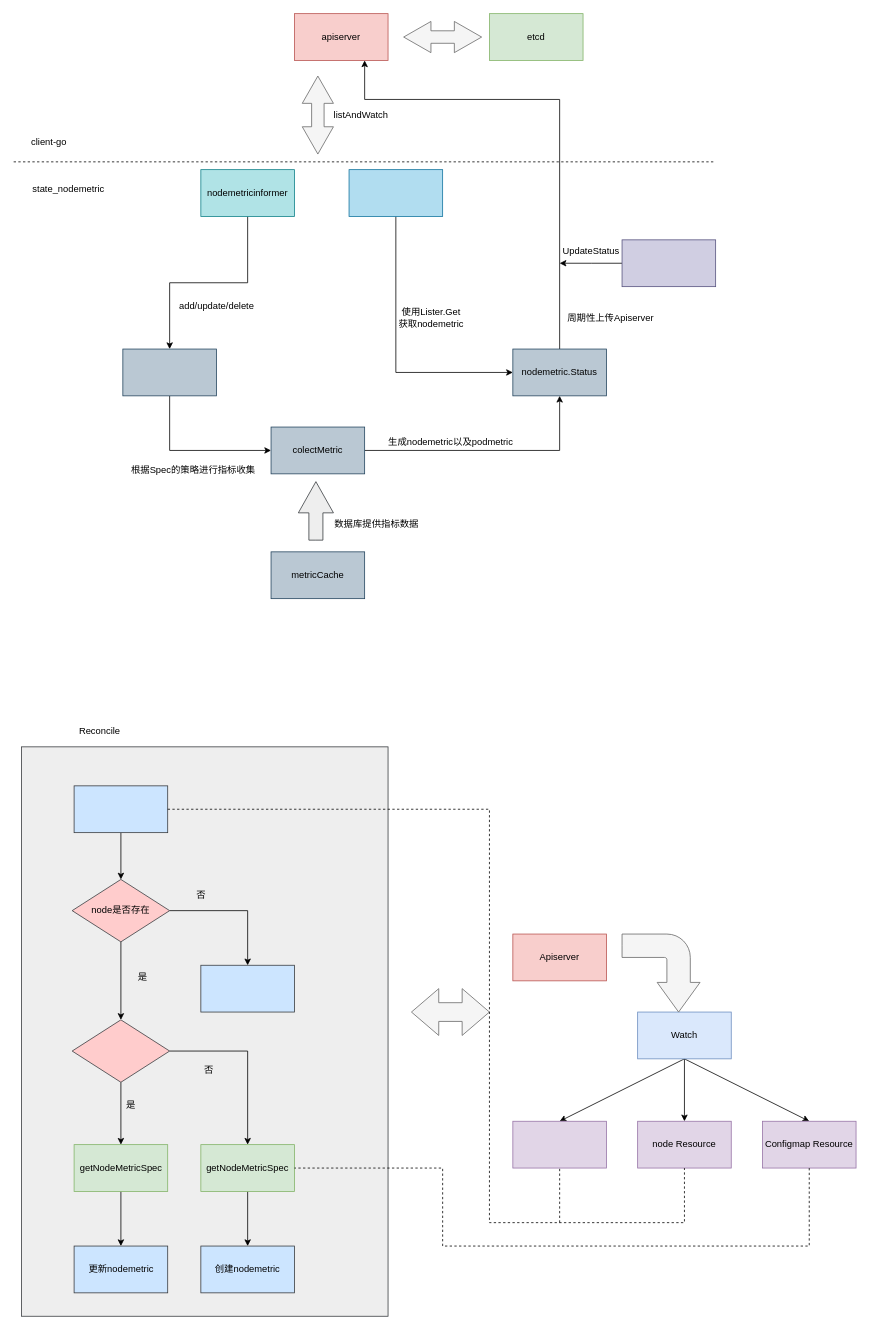
Image size: 870x1330. Some labels were removed from this diagram. The shapes that lost their labels are listed below. From the top down, each one's centre as x and y in pixels, then its label:
At [395,192]: "nodemetricLister".
At [668,263]: "clientset".
At [169,372]: "nodemetric.Spec".
At [120,809]: "获取node、nodemetric的缓存数据".
At [247,988]: "删除nodemetric".
At [120,1050]: "nodemetric是否存在".
At [559,1144]: "nodemetric Resource".
